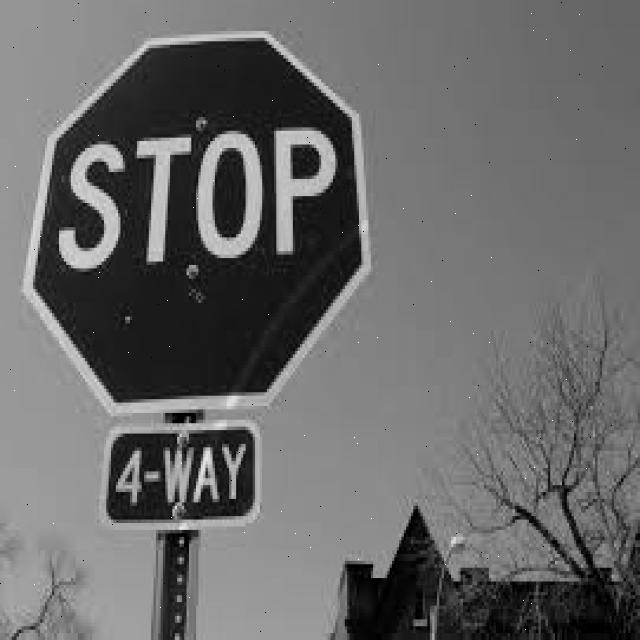Stop-sign: (24, 16, 373, 418)
